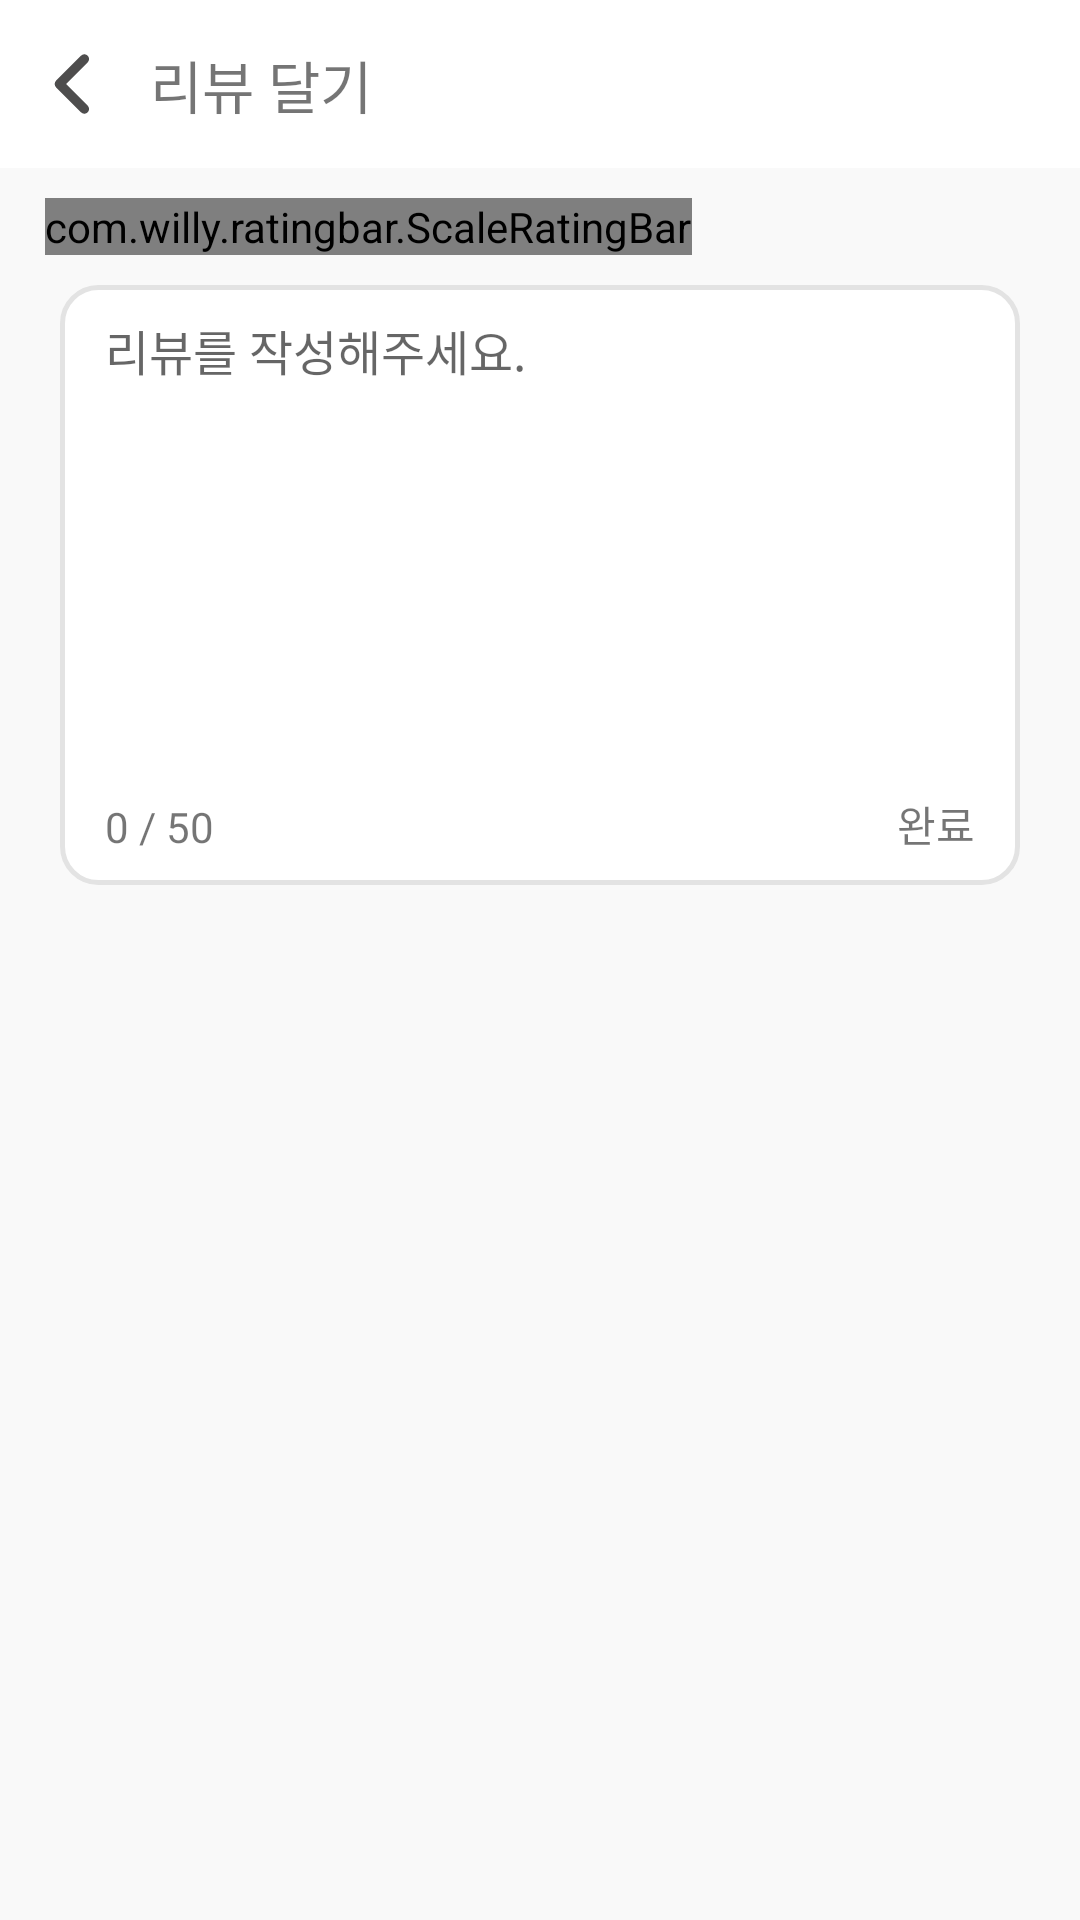

Named icons in this screenshot (1080*1920) and their centers, point (x, y):
arrow left: point (71, 84)
